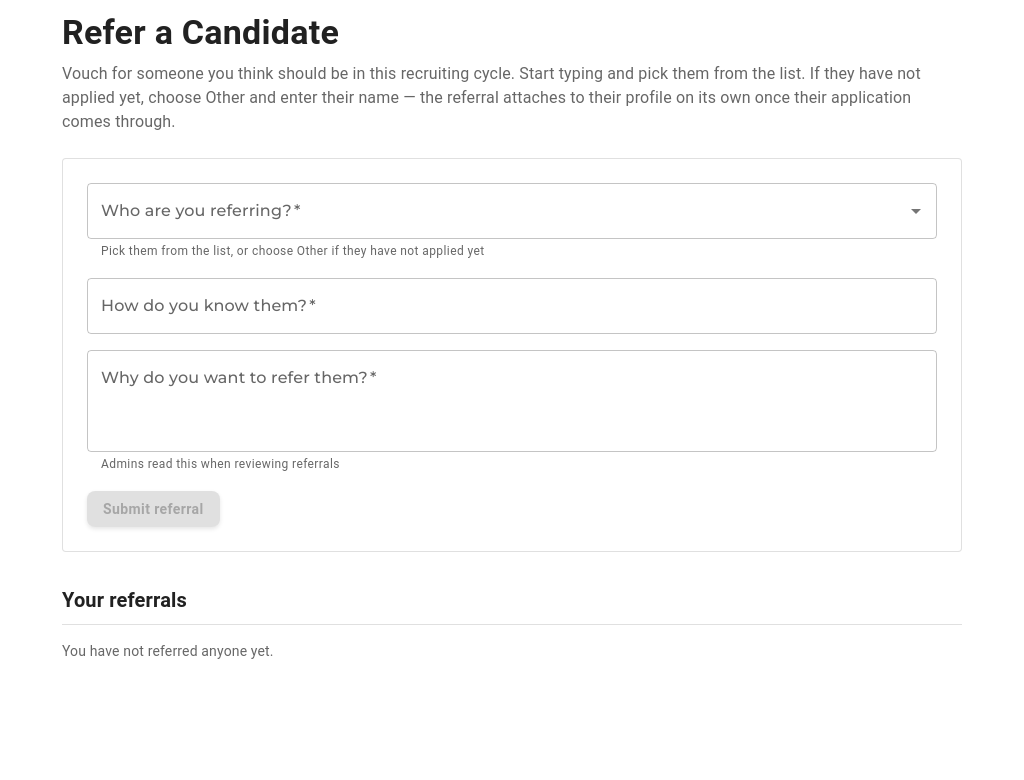
Test case: MemberReferrals › will not submit until there is a person, a relationship and a reason
The image size is (1024, 780).
Expected: the text "You have not referred anyone yet." is shown, [62,643,274,659]
Expected: the button "Submit referral" is disabled, [87,491,220,527]
In the dropdown labelled "Who are you referring? *": x=497, y=211 [96,192,898,230], type "kar"
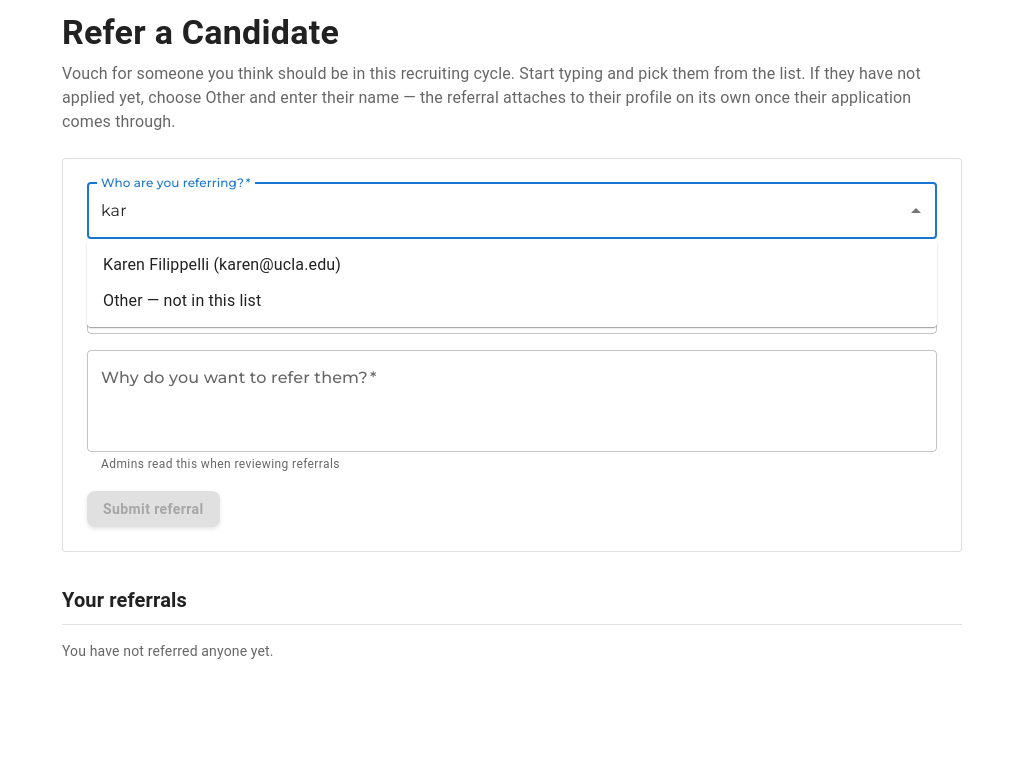
Click the option "Karen Filippelli (karen@ucla.edu)": x=222, y=264 [103,255,341,274]
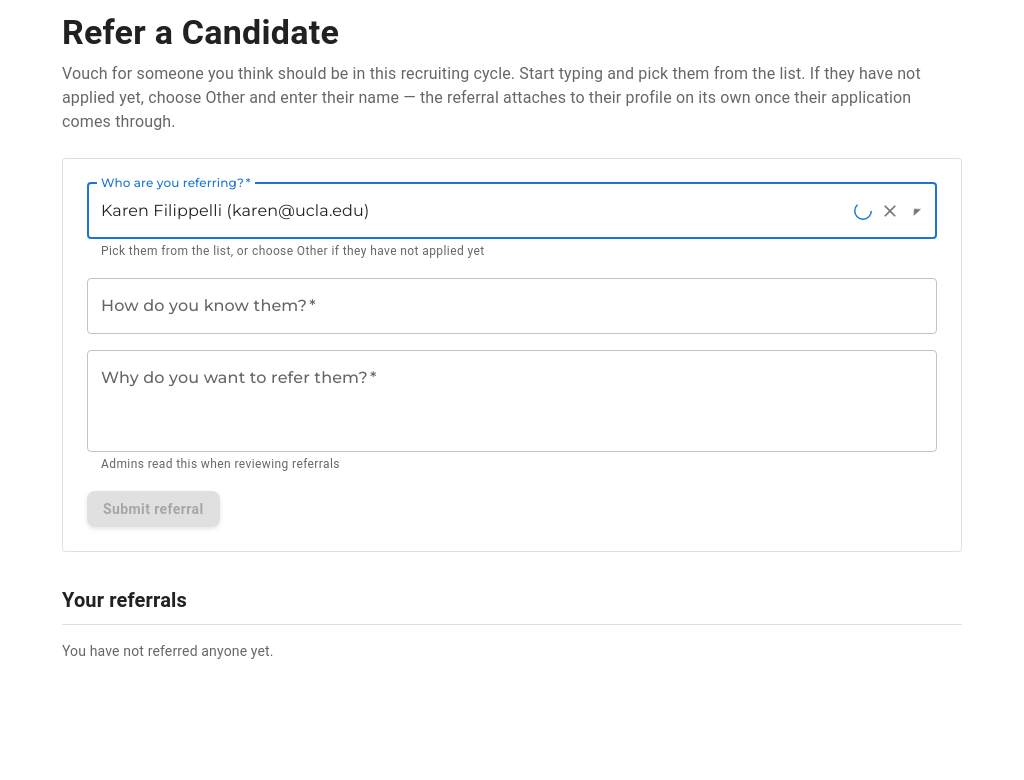
Expected: the button "Submit referral" is disabled, [87,491,220,527]
In the field labelled "How do you know them? *": x=512, y=306 [87,278,937,334], type "Classmate"
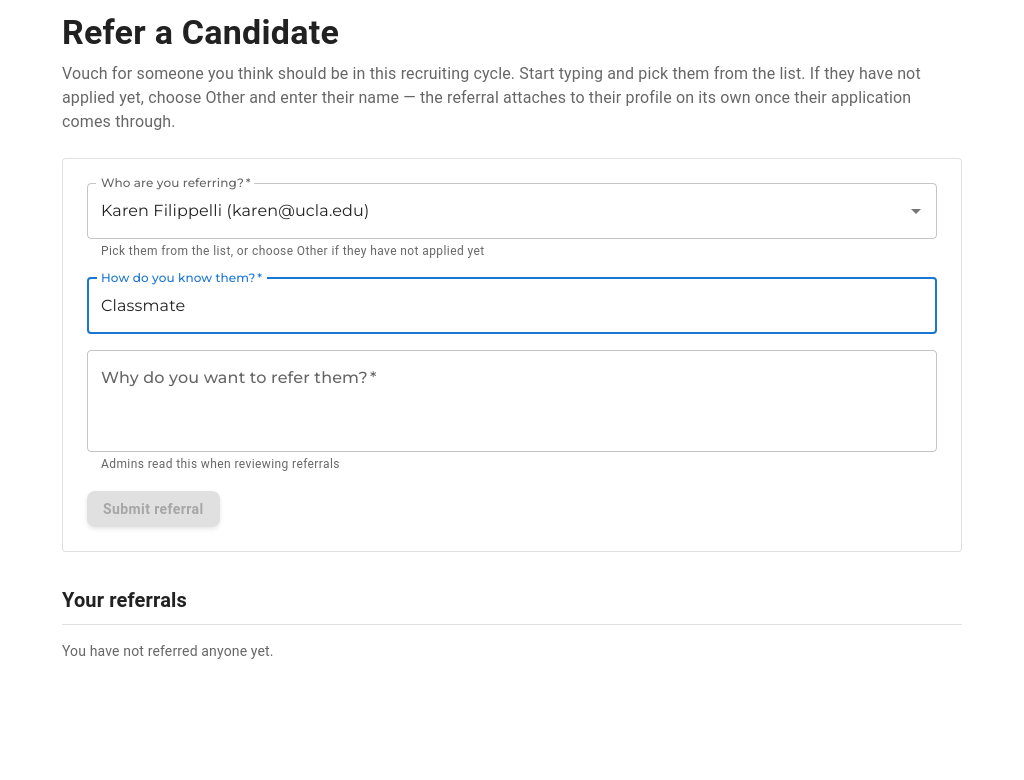
Expected: the button "Submit referral" is disabled, [87,491,220,527]
In the text box labelled "Why do you want to refer them? *": x=512, y=401 [101,366,923,435], type "Sharp and kind"
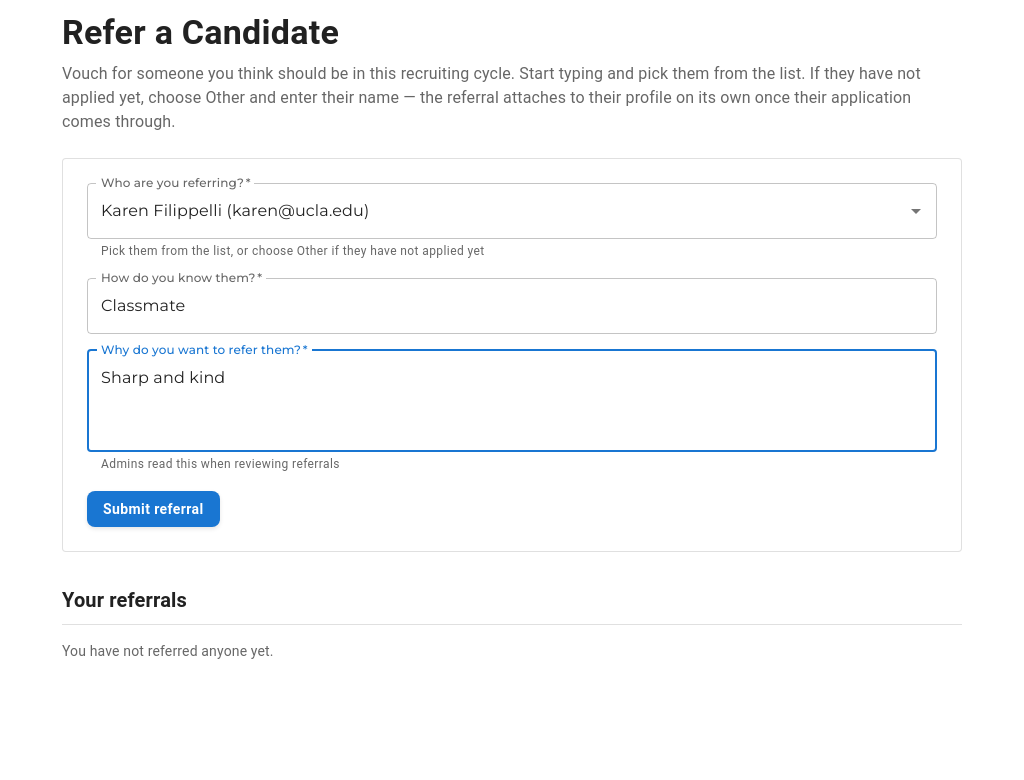
Expected: the button "Submit referral" is enabled, [87,491,220,527]
